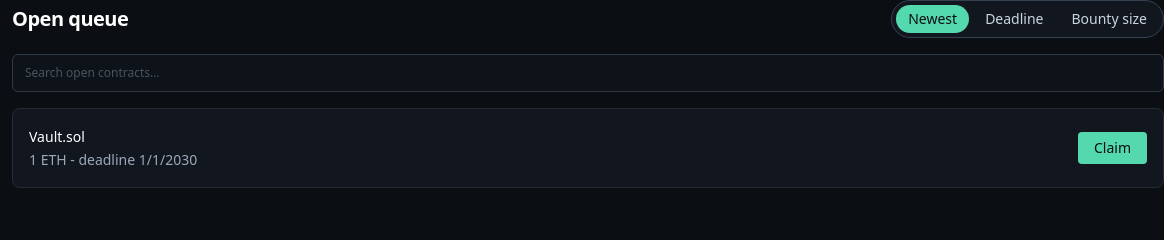
QueueList claim errors › tells an auditor who already holds a claim to finish it first
Click the button "Claim": (1112, 148) [1078, 132, 1147, 164]
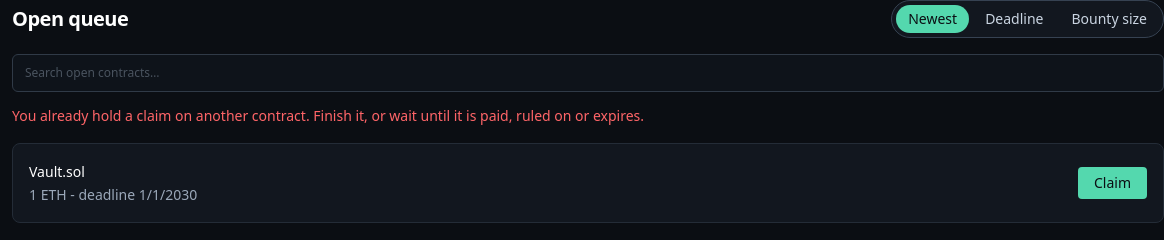
Result: the text "You already hold a claim on another contract" is shown at [12, 106, 644, 125]
